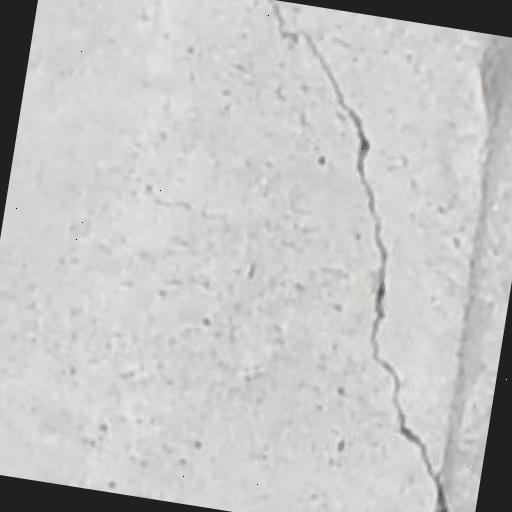spalling: (257, 5, 466, 512)
